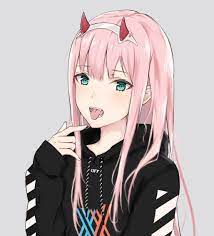zeroTwo: (66, 6, 176, 131)
